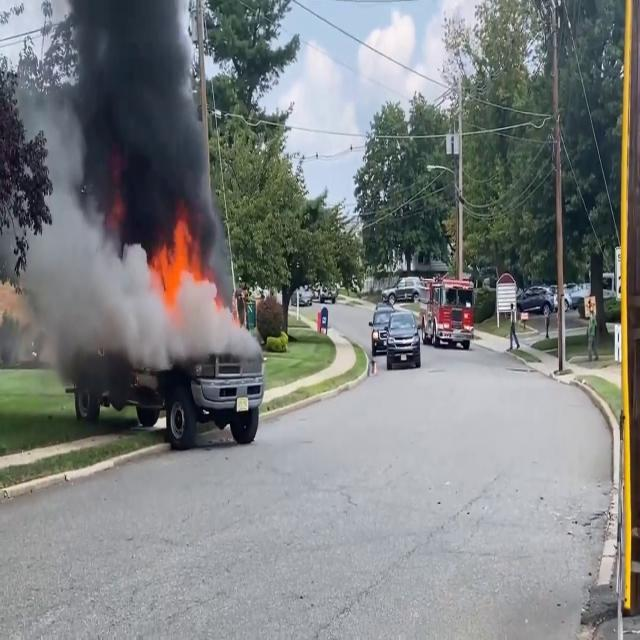Fire: (150, 216, 210, 306)
Smoke: (34, 1, 226, 240), (1, 208, 240, 382)
